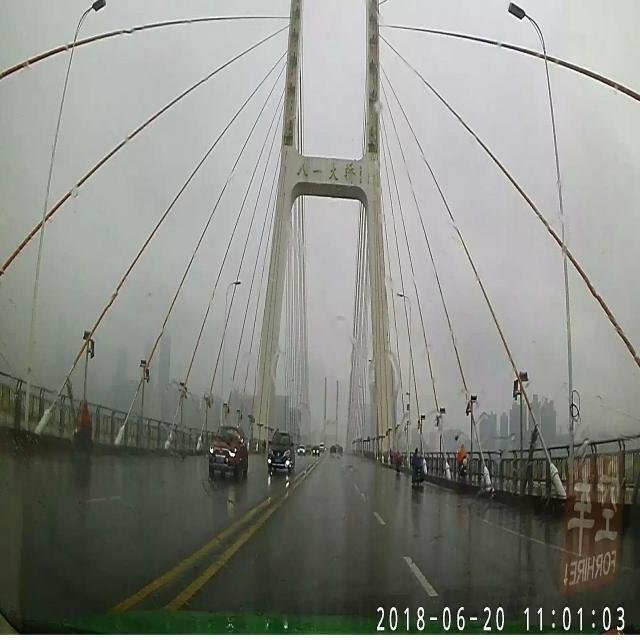car: (207, 426, 249, 478), (264, 428, 296, 470)
